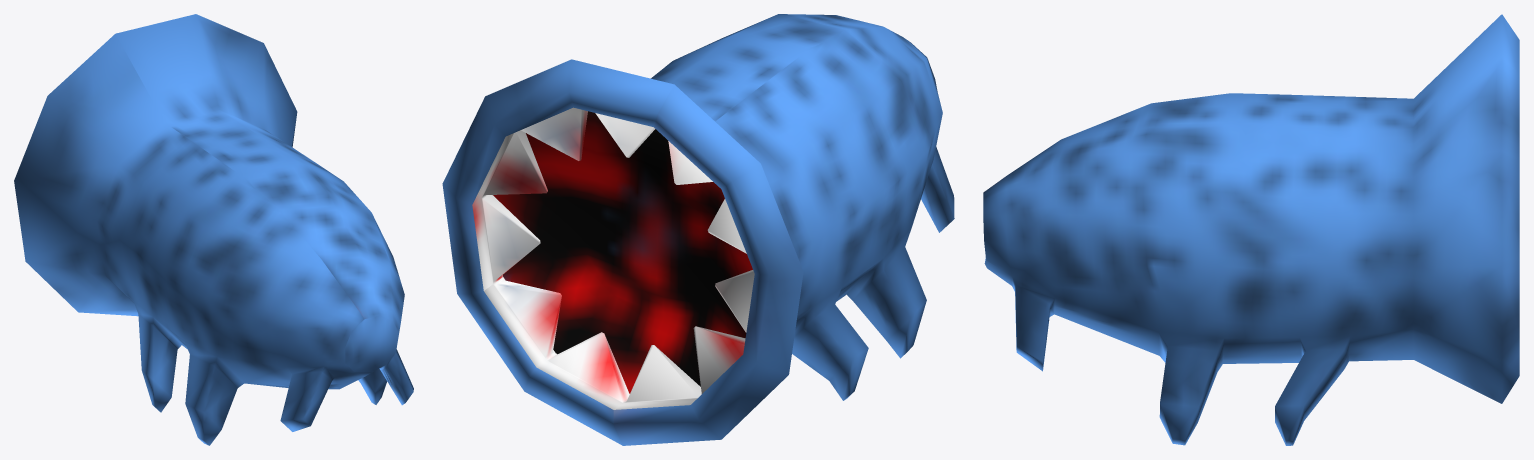
The model's file is gaping_dubine.glb.
The picture shows the model from 3 angles, left to right: view 1: azimuth 30°, elevation 25°; view 2: azimuth 150°, elevation 25°; view 3: azimuth 270°, elevation 25°; orthographic projection. The views are drawn at different scales.
Visible parts, largest first — view 1: Cylinder.001; view 2: Cylinder.001; view 3: Cylinder.001.
Boxes of the visible parts, <box> form: Cylinder.001: <box>14,14,413,445</box>; Cylinder.001: <box>442,14,954,445</box>; Cylinder.001: <box>983,14,1519,445</box>.
Bounding box in the file's own units: 1.53 × 1.56 × 2.1.
Materials: 1 (1 with a texture image).
